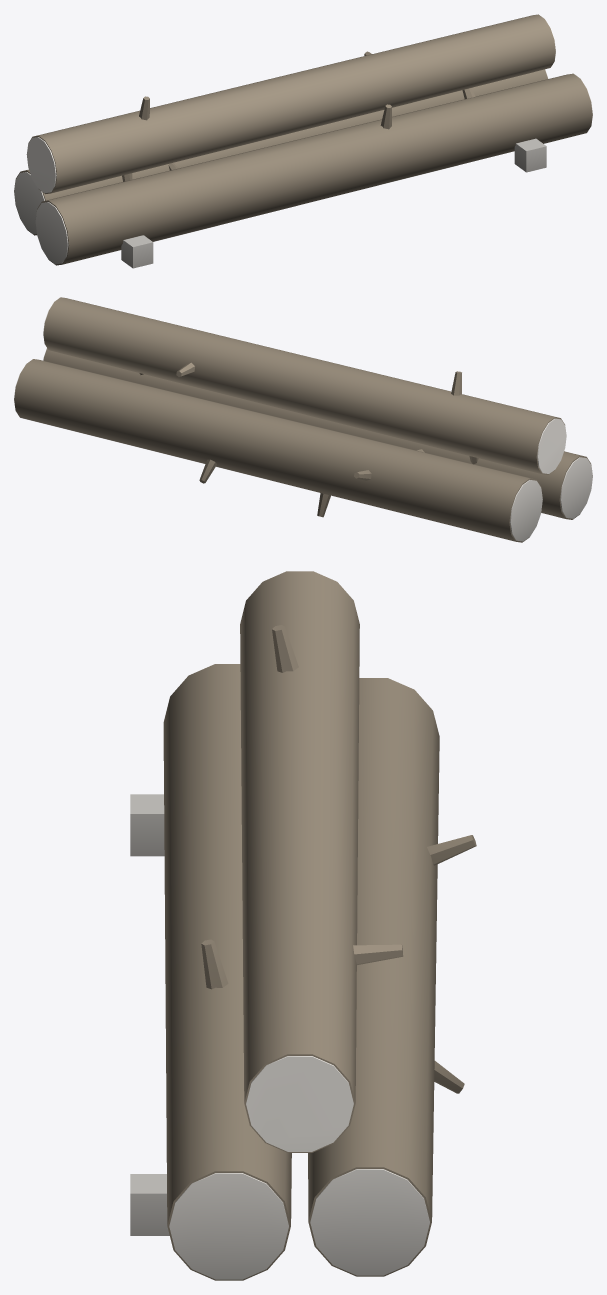
File: log_barricade.glb
3 views of the same model, one above another, from view 1: azimuth 30°, elevation 25°; view 2: azimuth 150°, elevation 25°; view 3: azimuth 270°, elevation 25° (orthographic). The views are drawn at different scales.
Visible parts, largest first — view 1: log_barricade_LOD0; view 2: log_barricade_LOD0; view 3: log_barricade_LOD0.
Boxes of the visible parts, <box> form: log_barricade_LOD0: <box>14,14,592,268</box>; log_barricade_LOD0: <box>14,297,592,542</box>; log_barricade_LOD0: <box>130,571,476,1280</box>.
Size of what is drawn, in the model's own units: 3.61 by 0.9593 by 1.04.
